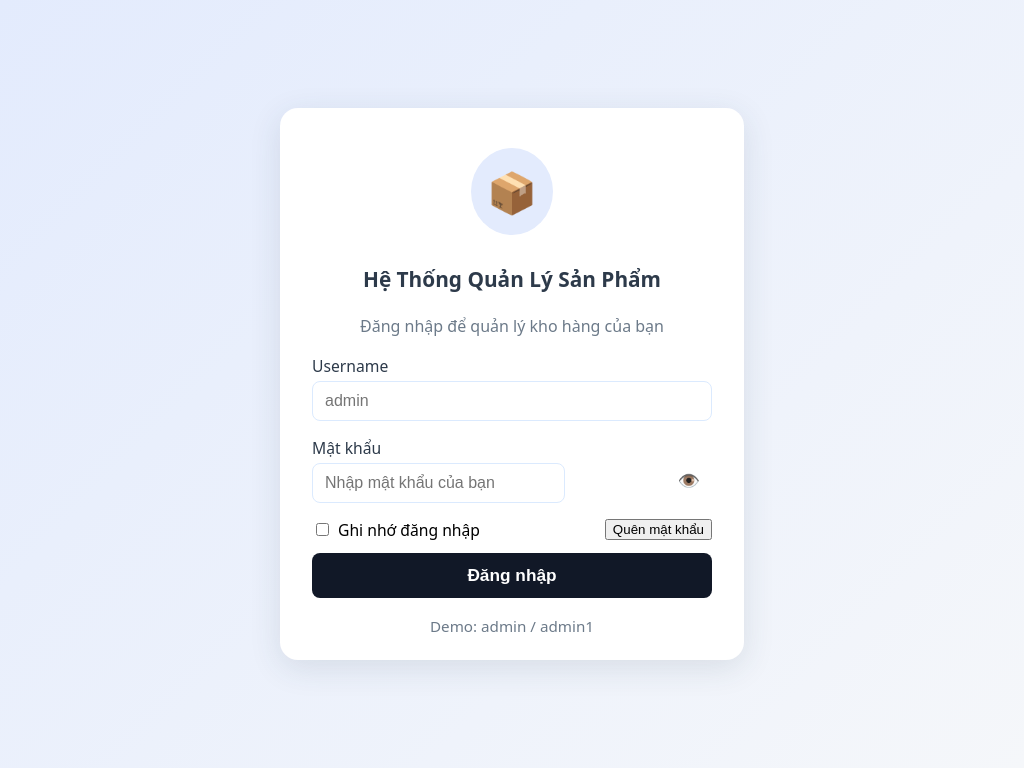
Test: Login E2E Tests › should validate username and password
In the field with id "username": (512, 401) [312,381,712,421], type "testuser"
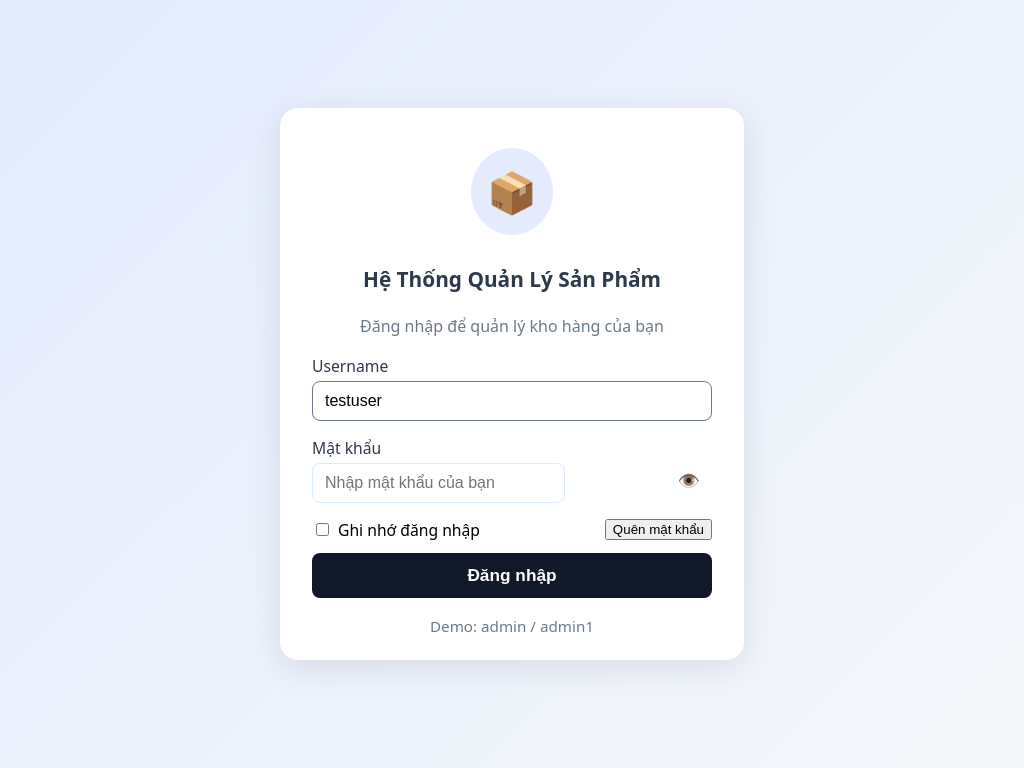
In the password field labelled "Mật khẩu": (439, 483) [312,463,565,503], type "123456"
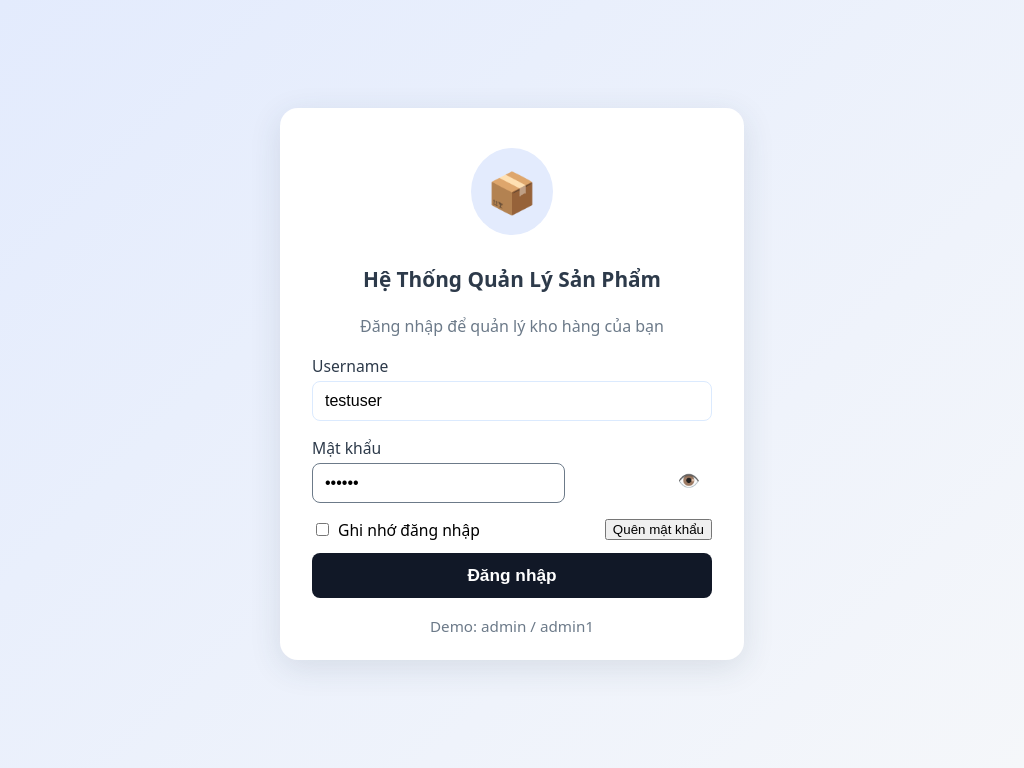
Click the button with id "loginBtn": (512, 576) [312,553,712,598]
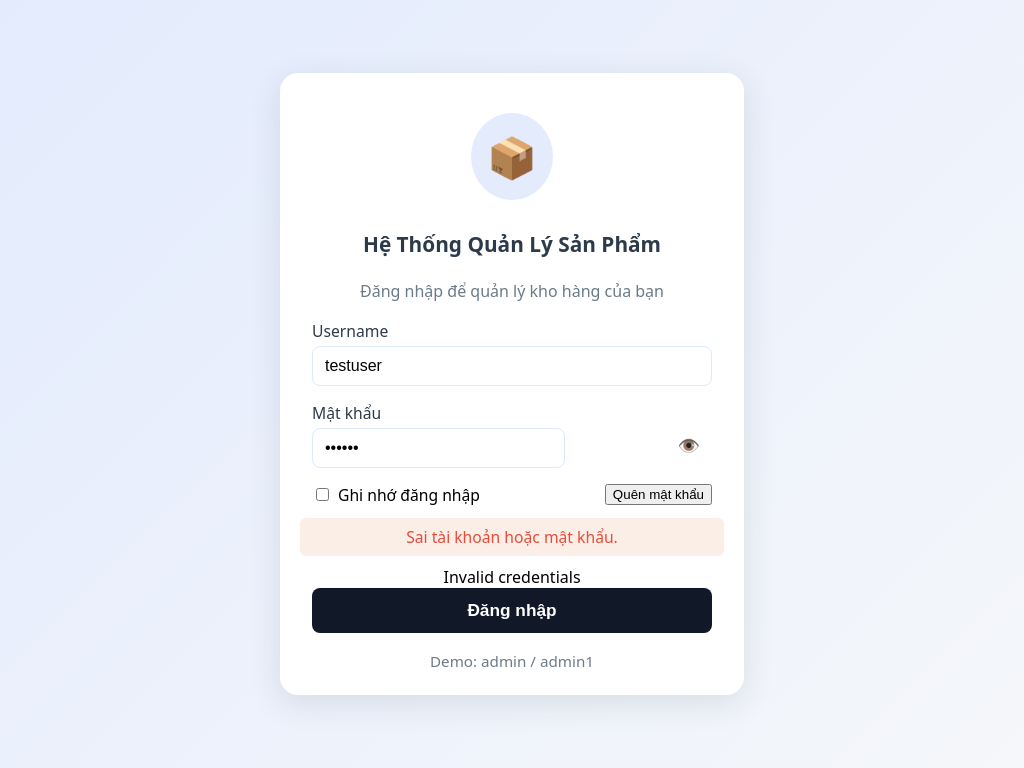
Check: the message with class "error-message" reads "Invalid credentials", box [443,566,580,588]
